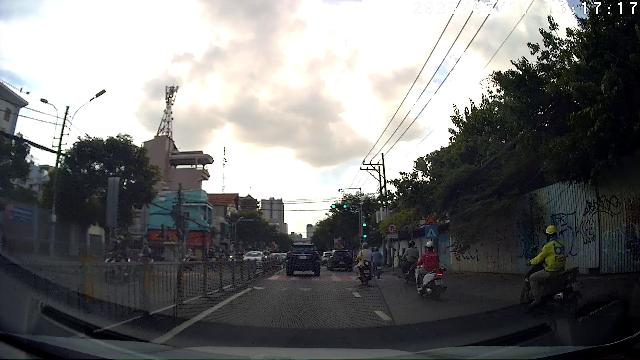124b-cam-oto-quay-dau-xe: (387, 223, 397, 233)
423a-duong-nguoi-di-bo-sang-ngang-1: (425, 226, 437, 239)
